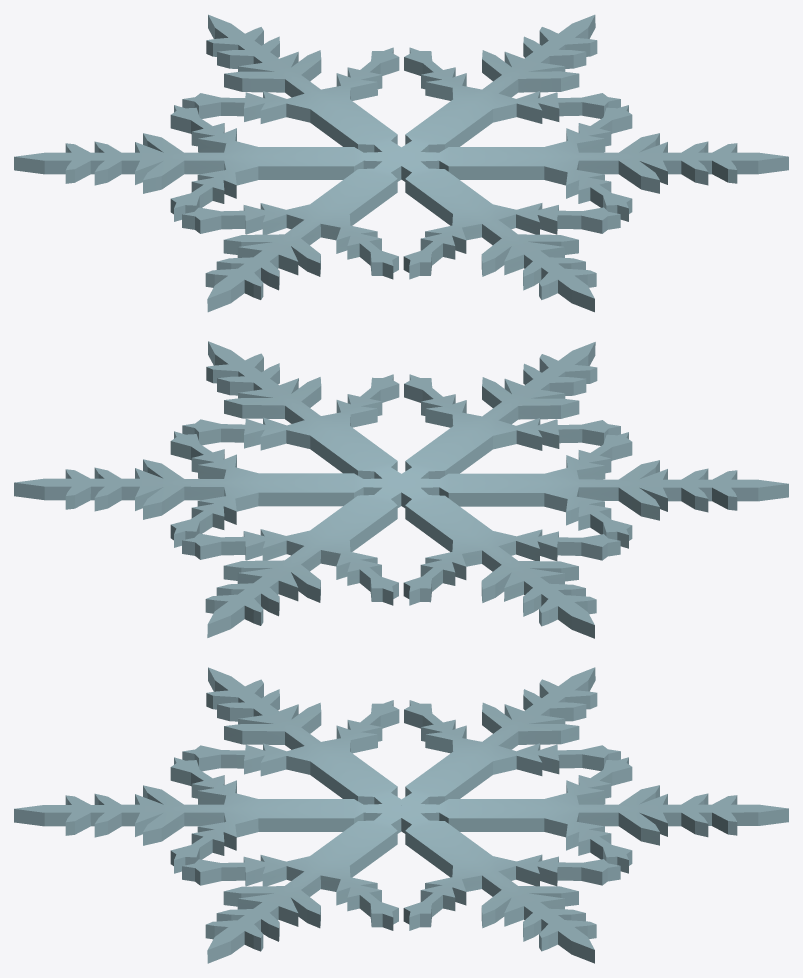
File: geology-crystals-snowflake_v2.glb
The picture shows the model from 3 angles, top to bottom: view 1: azimuth 30°, elevation 25°; view 2: azimuth 150°, elevation 25°; view 3: azimuth 270°, elevation 25°; orthographic projection.
Visible parts, largest first — view 1: Snowflake_v2; view 2: Snowflake_v2; view 3: Snowflake_v2.
Part boxes in pixels (left/top/right/bottom): Snowflake_v2: left=14, top=14, right=788, bottom=312; Snowflake_v2: left=14, top=341, right=788, bottom=638; Snowflake_v2: left=14, top=667, right=788, bottom=963.
Bounding box in the file's own units: 10.72 × 0.2573 × 12.38.
